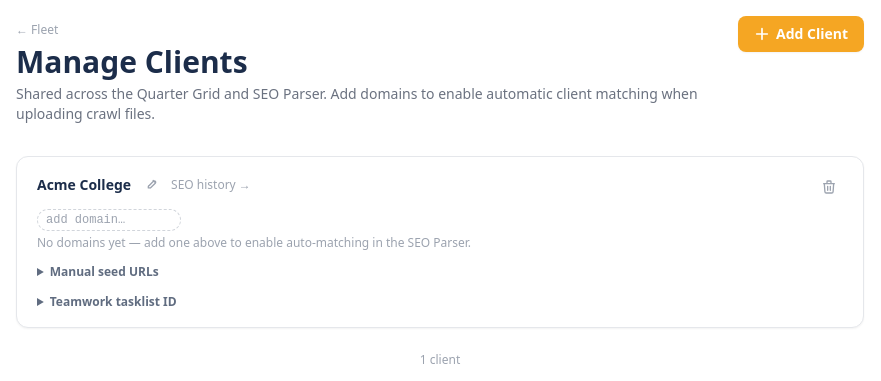
Test: manage page archive flow › archives via PATCH {archived:true} after confirm
Click the button named "Archive client": (829, 187) [815,173,843,201]
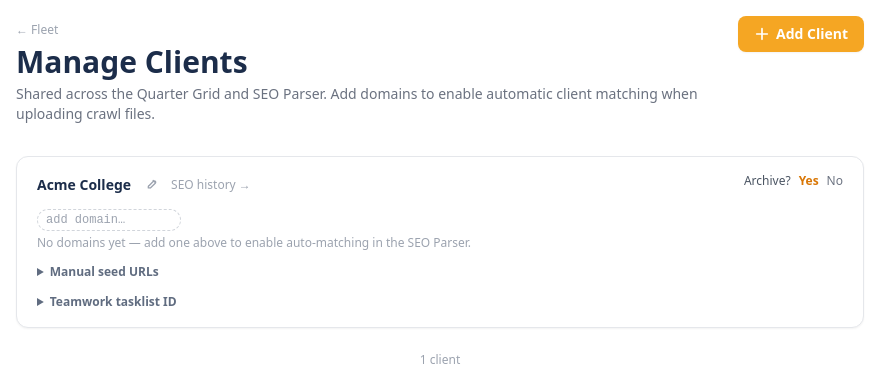
Click the button "Yes": (809, 181) [799,173,819,189]
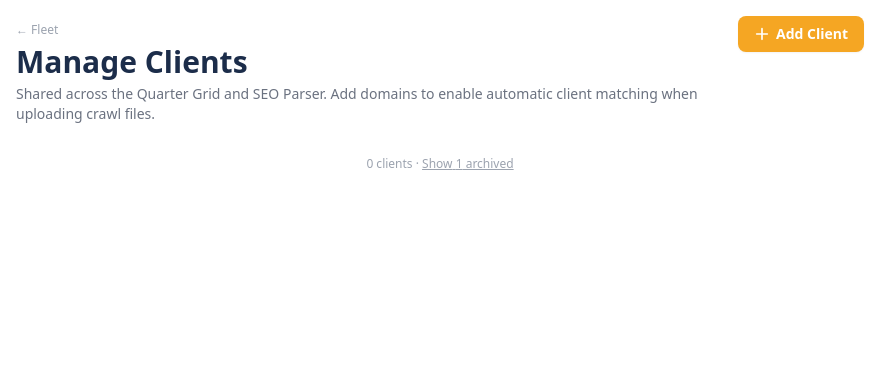
Expected: the link "Acme College" is gone
